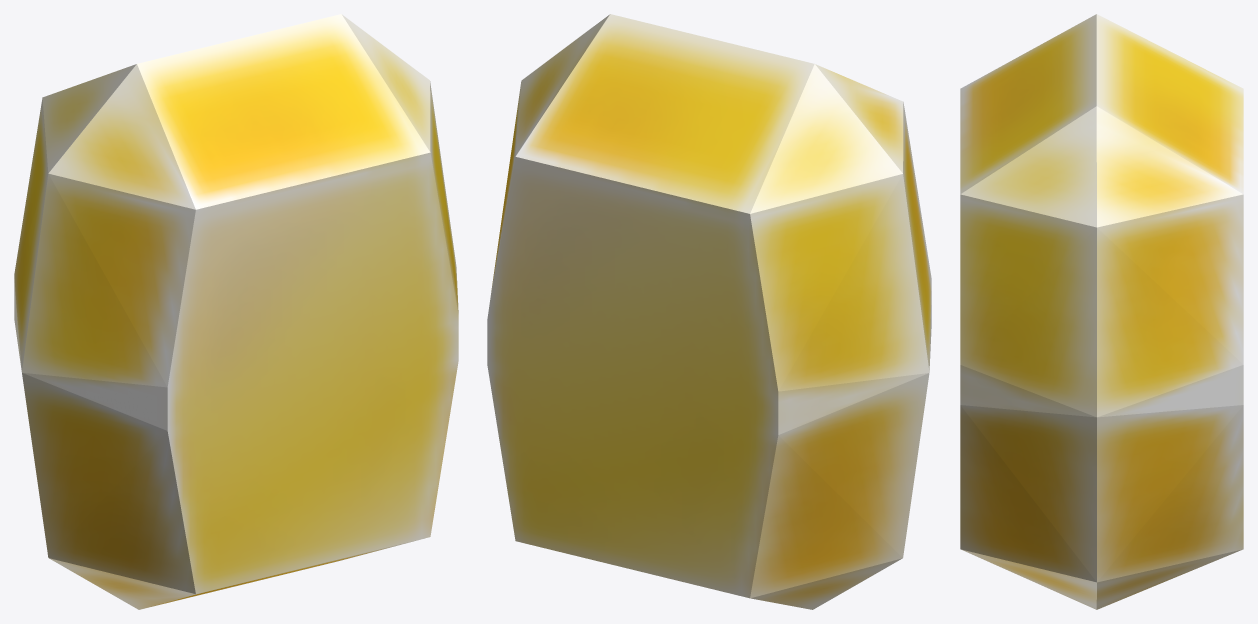
Rendered from item_008.fbx.
The picture shows the model from 3 angles, left to right: view 1: azimuth 30°, elevation 25°; view 2: azimuth 150°, elevation 25°; view 3: azimuth 270°, elevation 25°; orthographic projection. The views are drawn at different scales.
Visible parts, largest first — view 1: item008_yellow.001; view 2: item008_yellow.001; view 3: item008_yellow.001.
Part boxes in pixels (box(x1,y1,x2,y2)): item008_yellow.001: box(14, 14, 458, 609); item008_yellow.001: box(487, 14, 931, 609); item008_yellow.001: box(960, 14, 1243, 609).
Bounding box in the file's own units: 0.2145 × 0.2577 × 0.1311.
